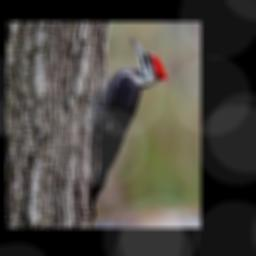Woodpecker: (87, 36, 168, 216)
